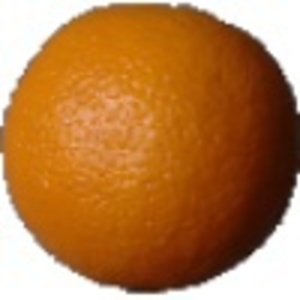laranja: (1, 2, 299, 293)
